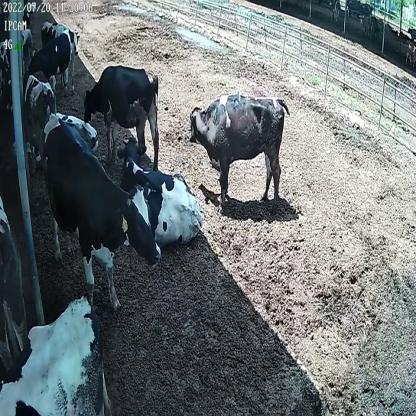cow: (41, 115, 163, 316), (187, 87, 291, 207), (115, 134, 203, 248), (82, 63, 163, 166), (28, 28, 78, 95), (42, 22, 80, 79)
